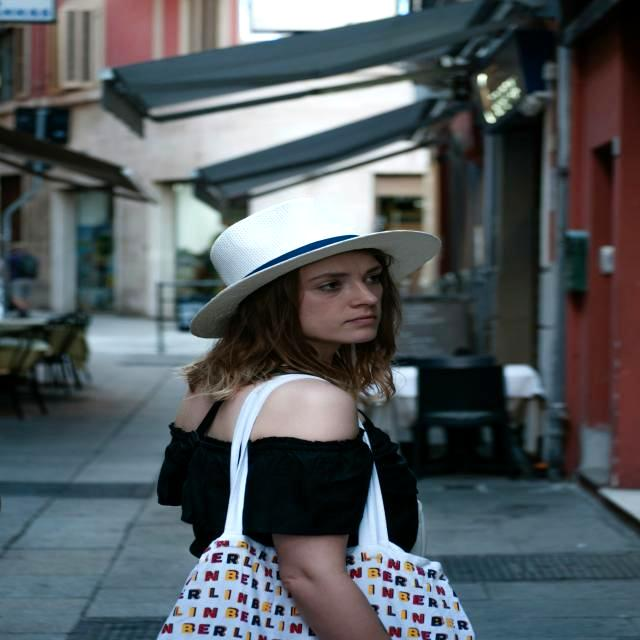no_hard_hat: (190, 198, 441, 339)
person: (162, 199, 474, 640)
